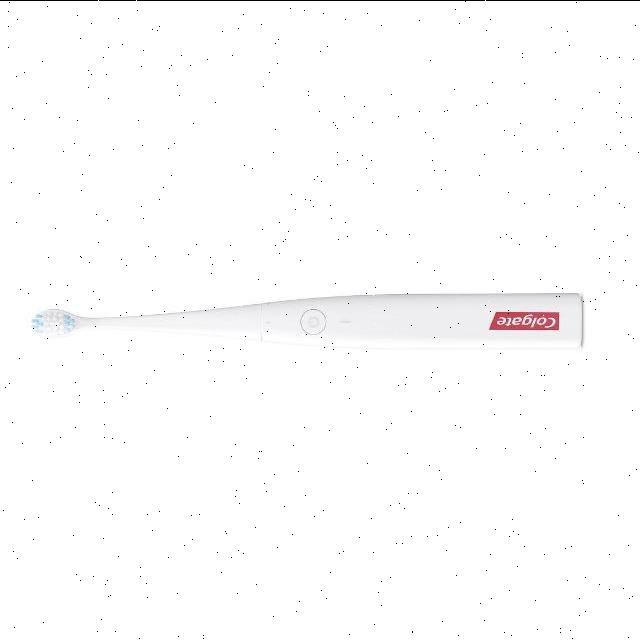toothbrush: (0, 232, 602, 392)
